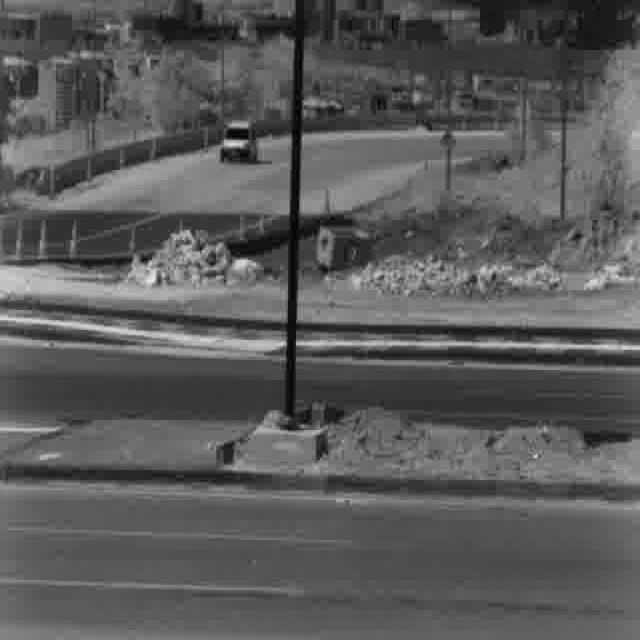Car: (219, 119, 257, 162)
